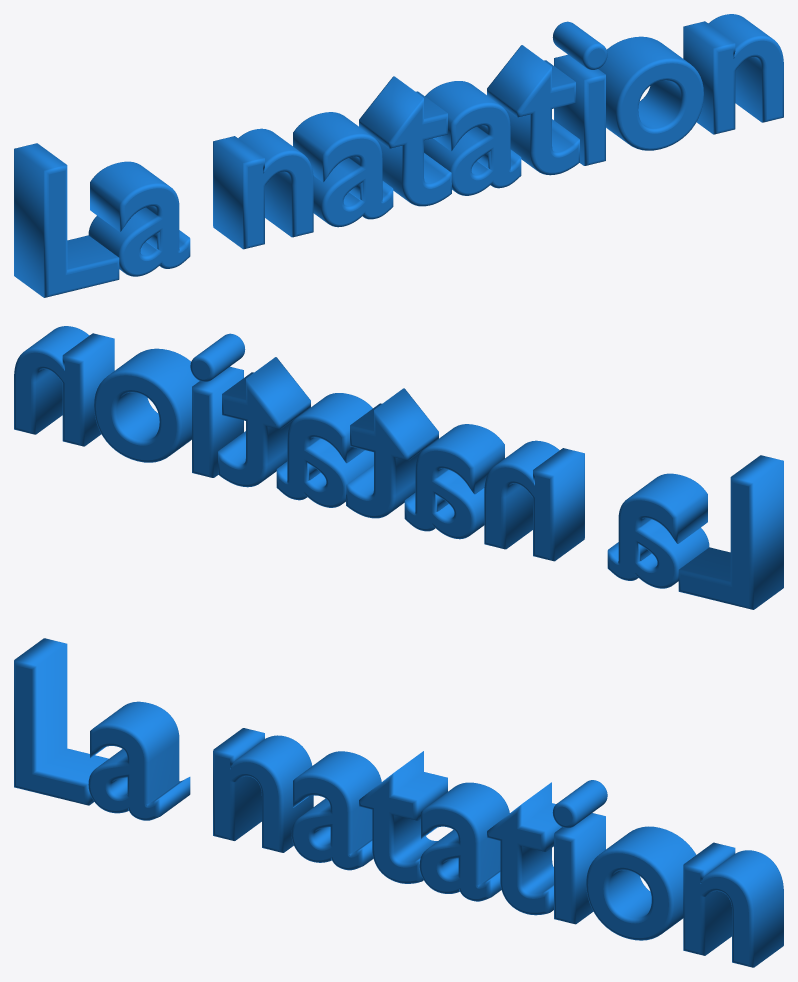
3 views of the same model, one above another, from view 1: azimuth 30°, elevation 25°; view 2: azimuth 150°, elevation 25°; view 3: azimuth 330°, elevation 25° (orthographic).
Visible parts, largest first — view 1: Text; view 2: Text; view 3: Text.
Part boxes in pixels (x1,y1,x2,y2): Text: (14, 14, 783, 297); Text: (14, 326, 783, 609); Text: (14, 638, 783, 967).
Size of the model in its own units: 4.39 by 0.731 by 0.34.
